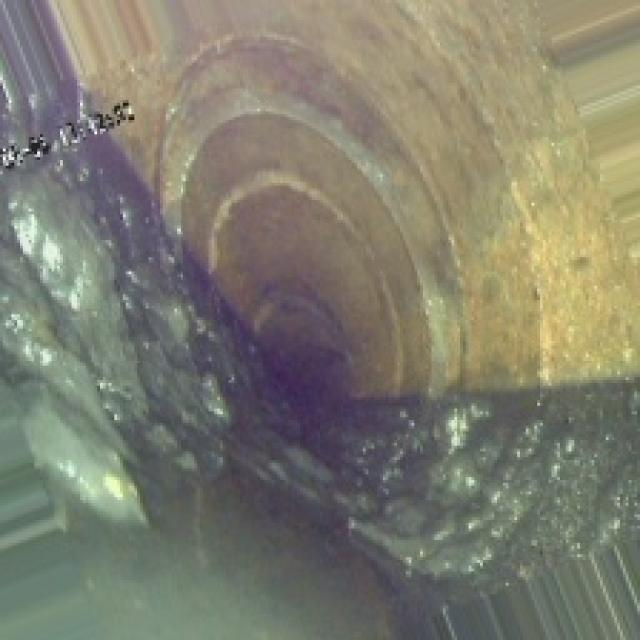sluge accumulation: (12, 177, 614, 609)
